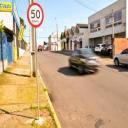speed_limit_50: (27, 2, 44, 28)
